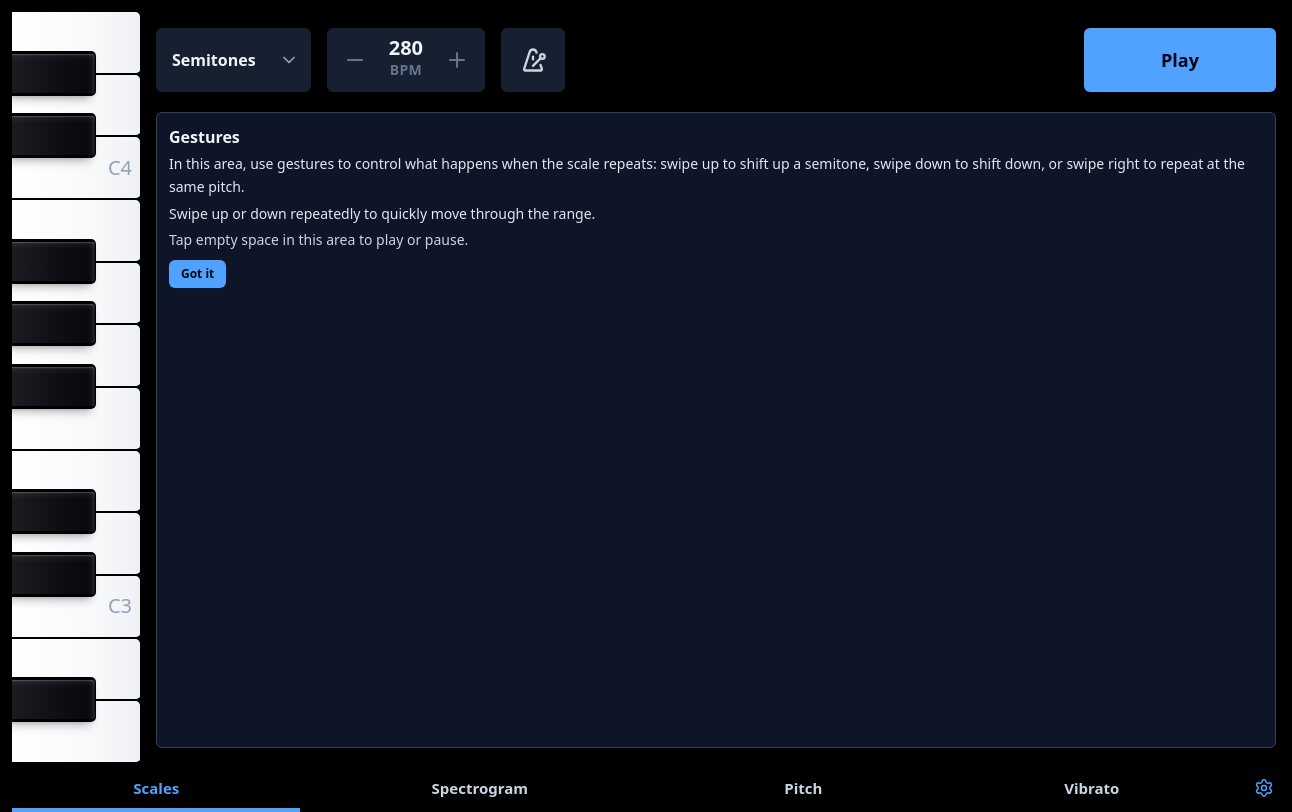
Test: Scales page › The gesture help panel can be dismissed and stays dismissed
Expected: the text "use gestures to control what happens when the scale repeats" is shown, [169, 154, 1245, 196]
Click the button "Got it": (198, 274) [169, 260, 226, 288]
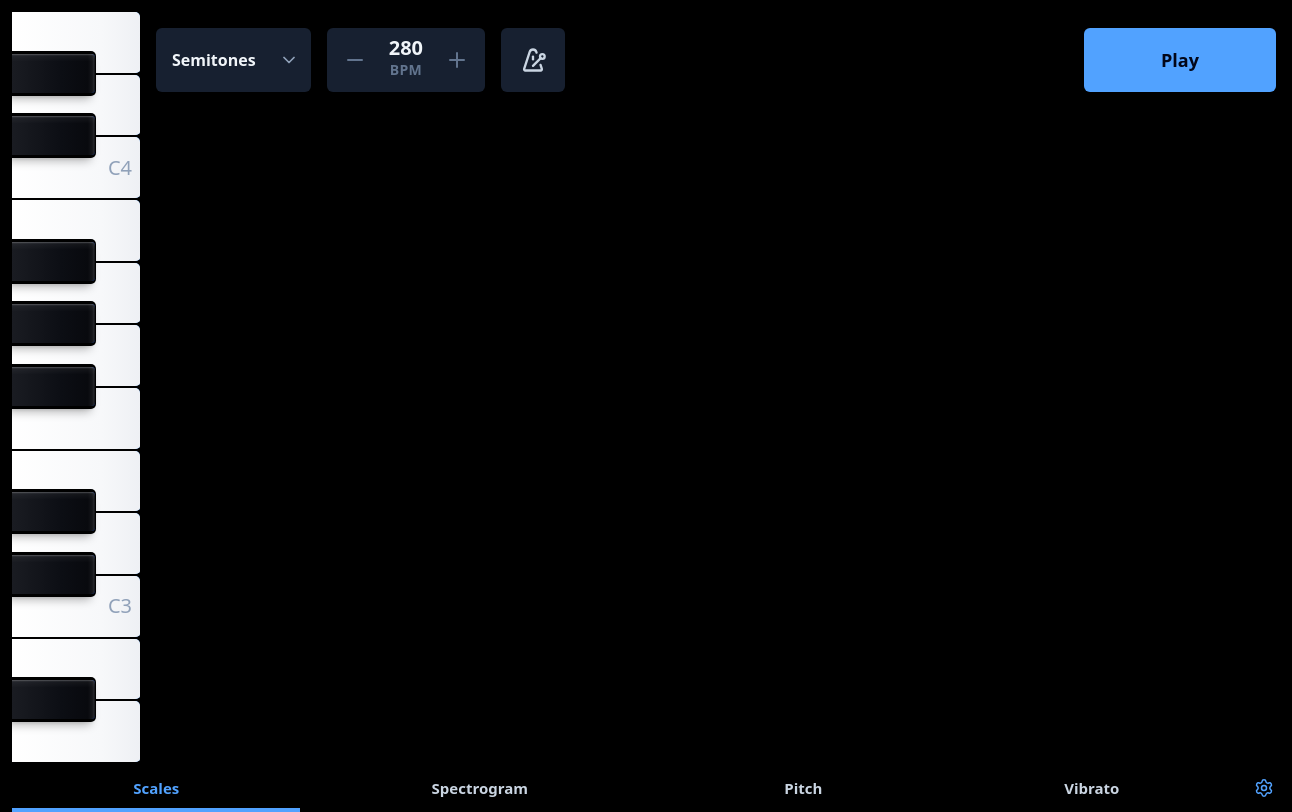
Expected: the text "use gestures to control what happens when the scale repeats" is gone
